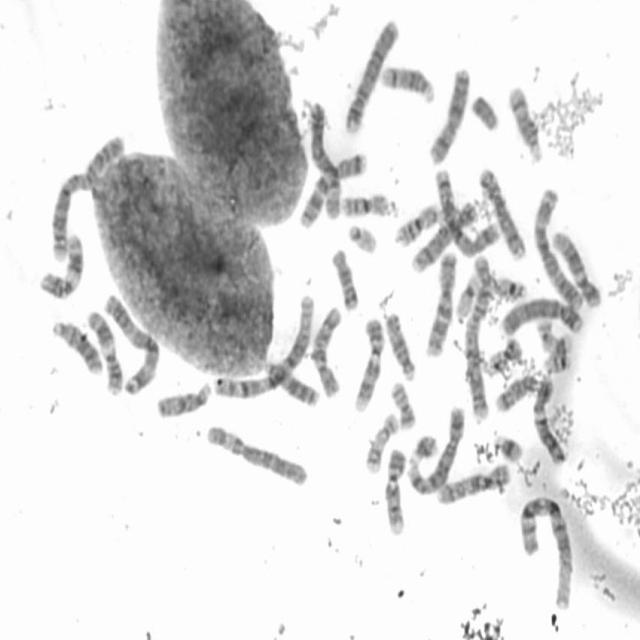A1: (212, 292, 314, 400), (515, 492, 576, 614)
A2: (50, 133, 128, 264), (463, 255, 493, 421)
A3: (531, 184, 586, 312), (102, 292, 162, 395)
B4: (343, 16, 401, 138), (501, 295, 585, 338)
B5: (432, 168, 502, 259), (405, 405, 466, 499)
C10: (434, 463, 512, 506), (311, 305, 344, 400)
C11: (86, 311, 125, 395), (40, 234, 84, 304)
C12: (550, 228, 603, 309), (531, 376, 568, 464)
C6: (202, 422, 313, 490), (308, 102, 342, 220)
C7: (297, 149, 369, 232), (424, 250, 458, 359)
C8: (478, 164, 528, 262), (409, 201, 477, 273)
C9: (353, 318, 385, 412), (382, 446, 407, 536)
D13: (50, 318, 104, 378), (260, 359, 318, 408)
D14: (507, 81, 546, 163), (381, 63, 437, 105)
D15: (152, 380, 214, 422), (384, 309, 418, 384)
E16: (394, 202, 440, 248), (339, 191, 400, 220)
E17: (364, 412, 399, 476), (535, 319, 574, 356)
E18: (332, 248, 362, 312), (495, 375, 540, 413)
F19: (455, 270, 483, 322), (499, 277, 529, 304)
F20: (488, 334, 521, 375), (390, 378, 416, 429)
G21: (490, 433, 526, 466), (408, 434, 438, 467)
G22: (346, 223, 381, 256), (542, 349, 572, 375)
X: (428, 66, 472, 167)
Y: (469, 94, 500, 133)
